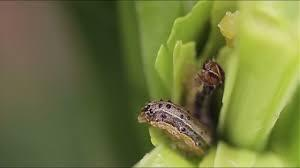fallarmy_worm: (132, 87, 215, 152)
